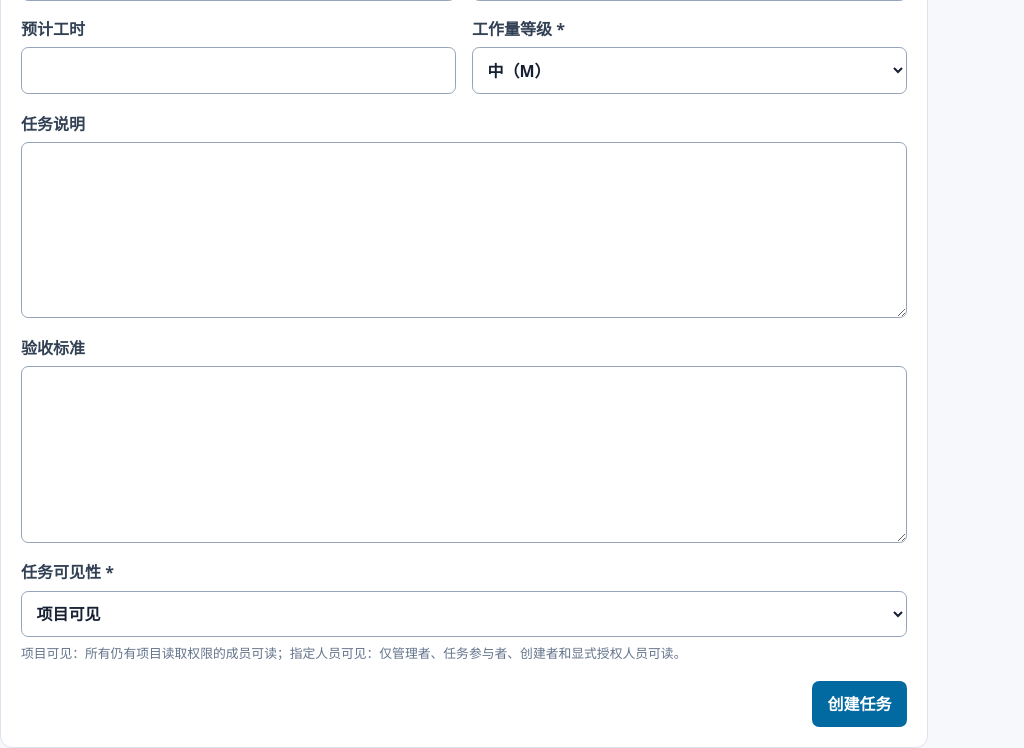
Test case: 任务表单 › 覆盖全部 Task 3.1 字段并在空提交时显示即时校验
(page scrolled)
Expected: the number field labelled "预计工时" is shown, 21,47 -> 456,94
Expected: the dropdown labelled "工作量等级 *" is shown, 472,47 -> 907,94
Click the button "创建任务".
click(860, 704)  # box 812,681 -> 907,727
(page scrolled)
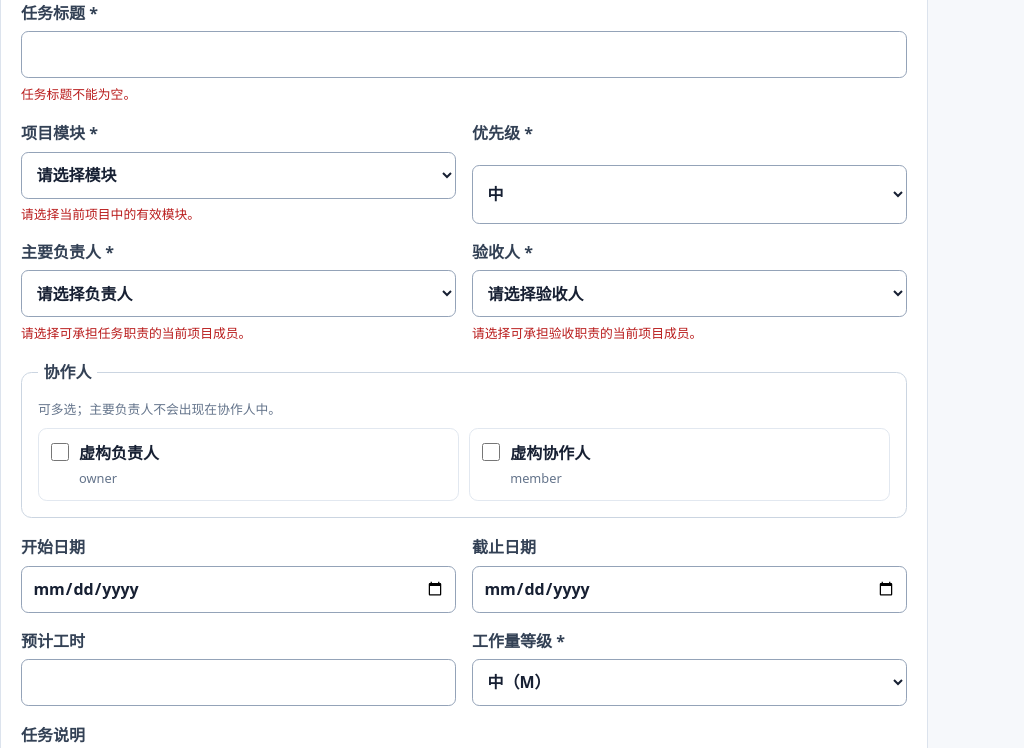
Result: the text "任务标题不能为空。" is shown at 21,85 -> 136,103
Result: the text "请选择当前项目中的有效模块。" is shown at 21,205 -> 200,223
